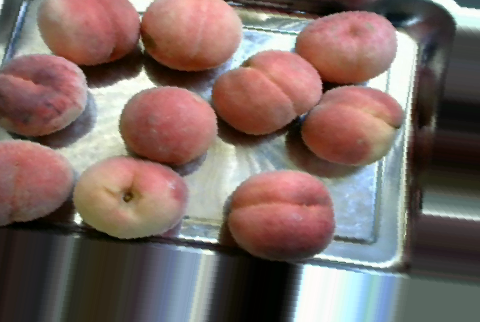Peach: (219, 168, 333, 263), (211, 48, 322, 137), (72, 155, 185, 238), (296, 85, 405, 166), (118, 84, 215, 166), (0, 53, 91, 135), (294, 11, 397, 83), (140, 1, 246, 70), (33, 0, 140, 65), (0, 137, 71, 225)
